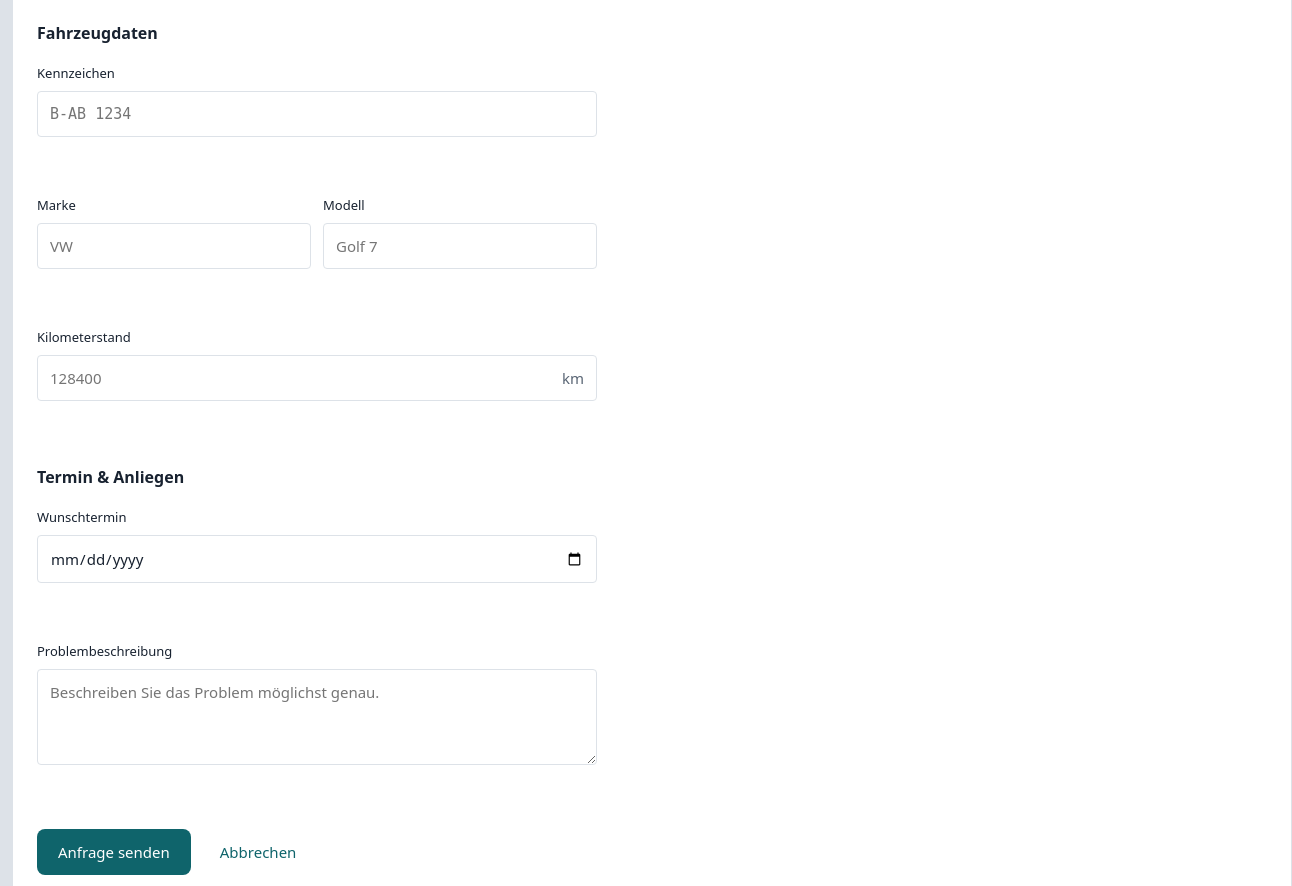
Scenario: AppointmentPage › starts neutral and only shows field errors after a submit attempt
(page scrolled)
Expected: the text "Dieses Feld ist erforderlich." is not shown
Click the button "Anfrage senden".
click(114, 852)  # box [37,829,191,875]
(page scrolled)
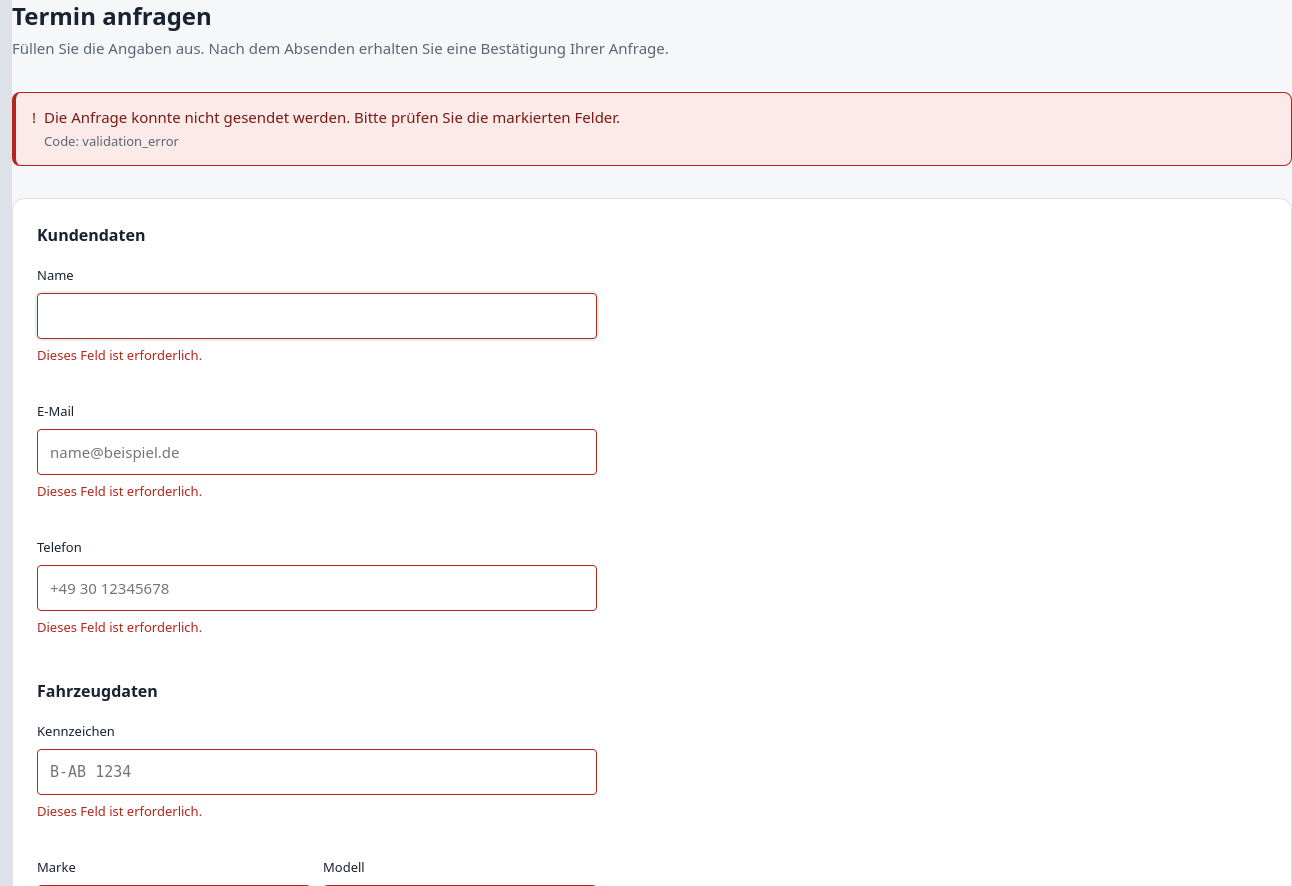
Now the text "Dieses Feld ist erforderlich." below "Name" is shown, box [37,346,202,364]
